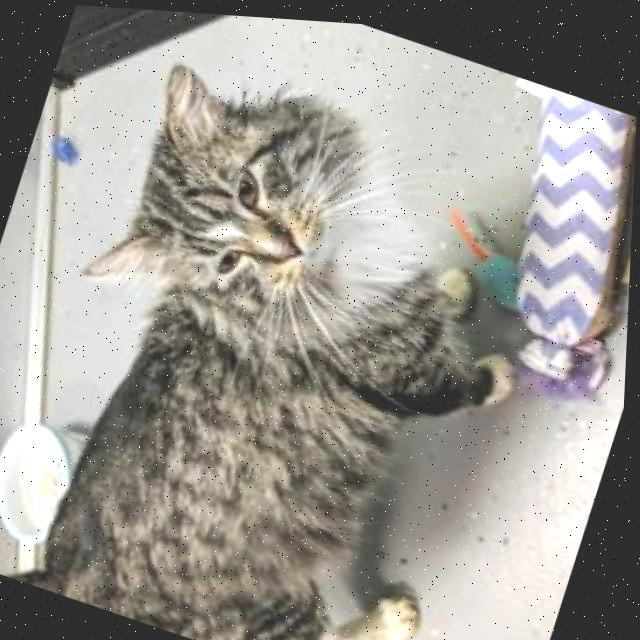Maine Coon: (0, 14, 586, 640)
